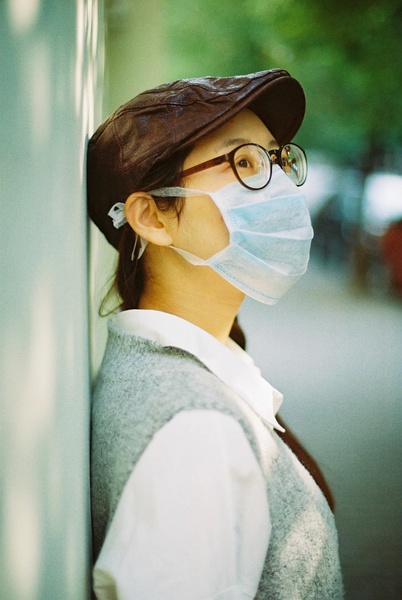face_mask: (195, 114, 313, 302)
